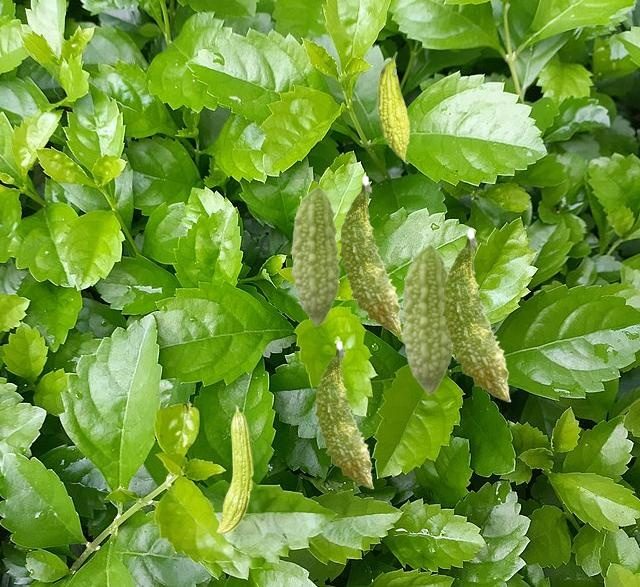ampalaya: (439, 227, 511, 402), (337, 175, 402, 335), (313, 340, 374, 489), (400, 244, 453, 395), (290, 186, 340, 327), (216, 405, 254, 533), (376, 51, 410, 165)
